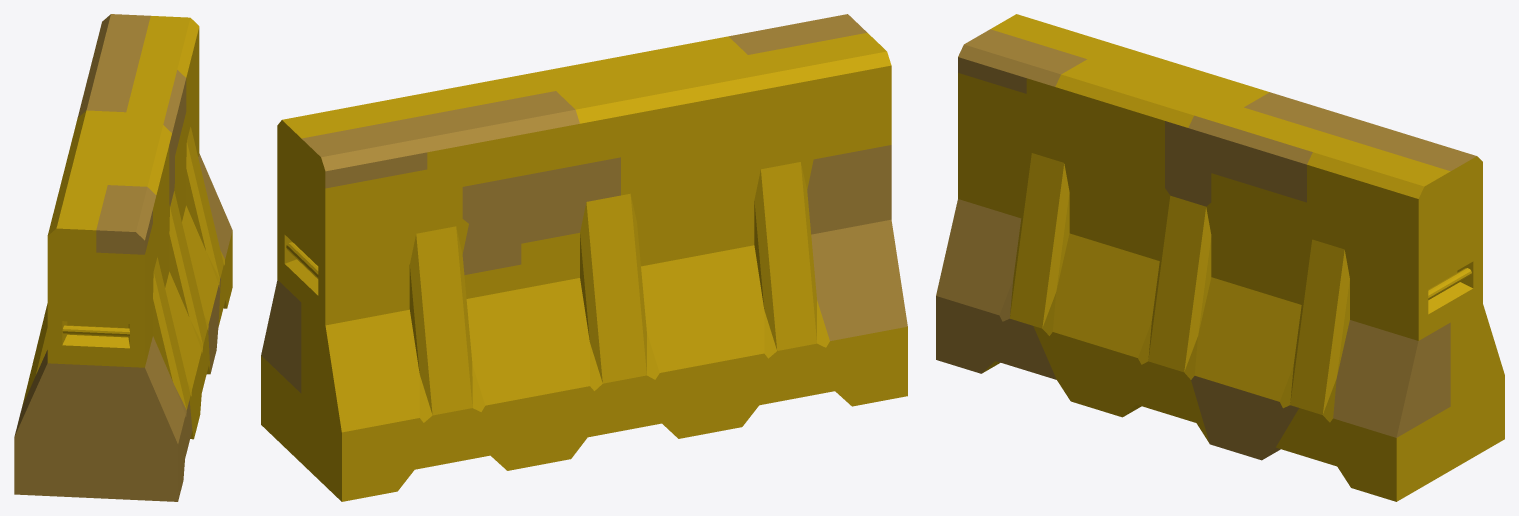
Rendered from plasticbarrier.001_lev1.003_lev3.glb.
3 views of the same model, side by side, from view 1: azimuth 30°, elevation 25°; view 2: azimuth 150°, elevation 25°; view 3: azimuth 270°, elevation 25° (orthographic). The views are drawn at different scales.
Parts seen in each view (by area): view 1: plasticbarrier.001_lev1.003_lev3; view 2: plasticbarrier.001_lev1.003_lev3; view 3: plasticbarrier.001_lev1.003_lev3.
Boxes of the visible parts, box(x1,y1,x2,y2) form: plasticbarrier.001_lev1.003_lev3: box(14, 14, 232, 501); plasticbarrier.001_lev1.003_lev3: box(261, 14, 907, 501); plasticbarrier.001_lev1.003_lev3: box(936, 14, 1504, 501).
Size of the model in its own units: 2.86 by 1.95 by 3.36.
Materials: 1 (1 with a texture image).
